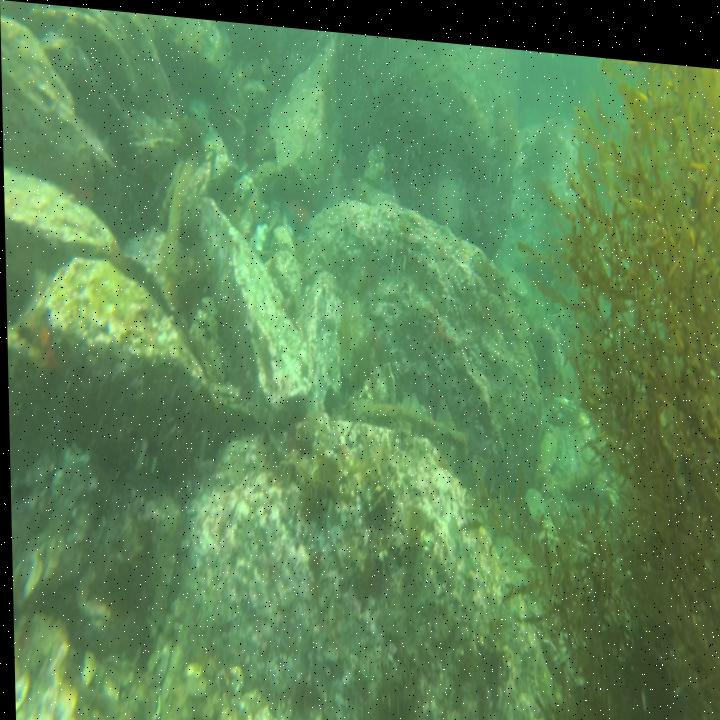starfish: (282, 178, 317, 239)
